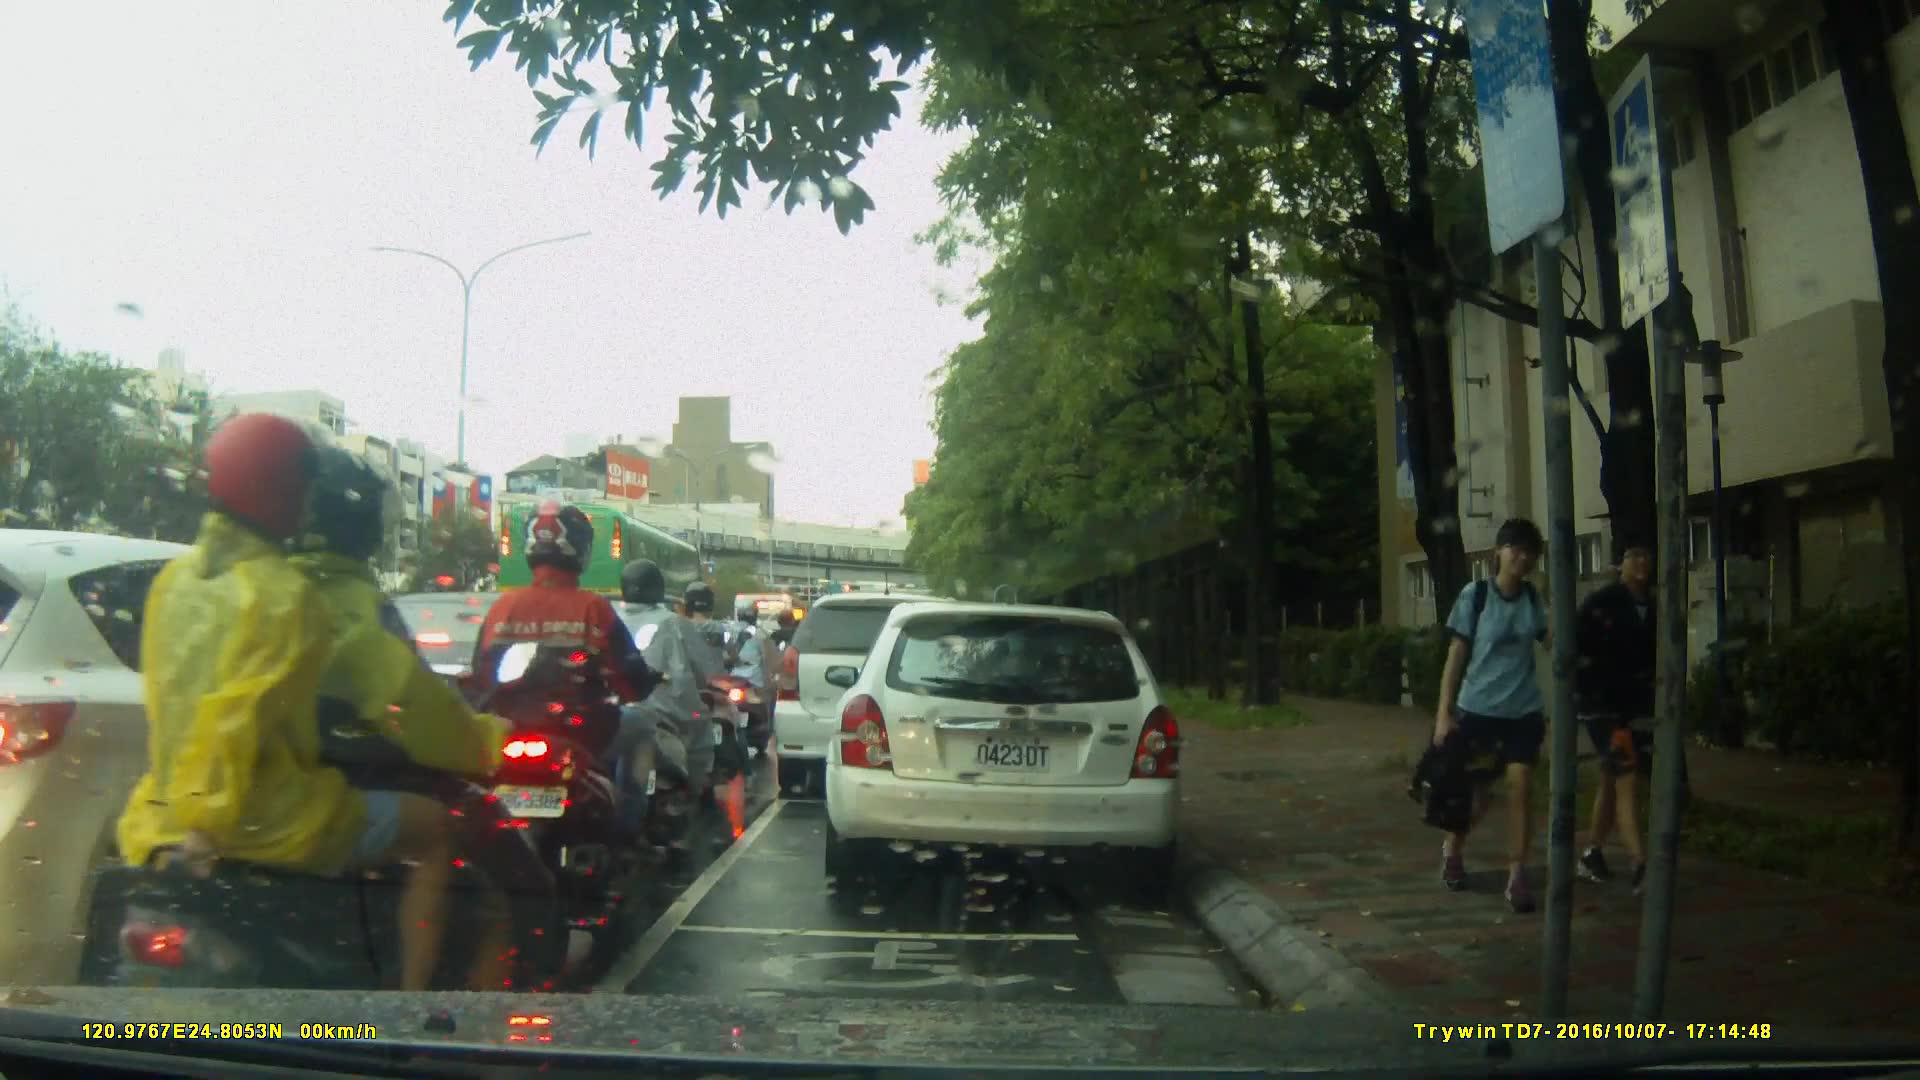pedestrian: (1391, 511, 1584, 918), (1560, 522, 1705, 907)
rider: (105, 414, 568, 1077), (463, 492, 657, 940), (587, 559, 737, 862), (666, 576, 742, 797), (715, 596, 787, 747), (767, 604, 810, 718)
vehicle: (1, 531, 457, 988), (831, 592, 1196, 897), (322, 590, 629, 776), (770, 590, 999, 803), (495, 501, 707, 636)
